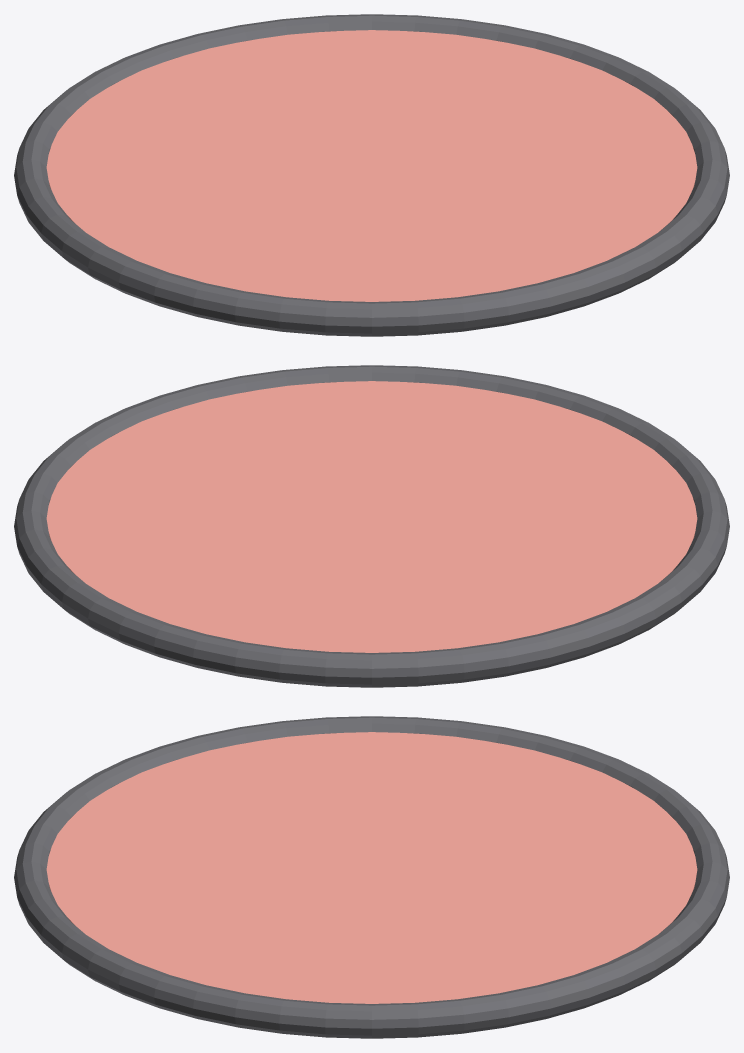
The model's file is Toy_SpawnPad_Coral.fbx.
3 views of the same model, one above another, from view 1: azimuth 30°, elevation 25°; view 2: azimuth 150°, elevation 25°; view 3: azimuth 270°, elevation 25° (orthographic).
Parts seen in each view (by area): view 1: Toy_SpawnPad_Coral; view 2: Toy_SpawnPad_Coral; view 3: Toy_SpawnPad_Coral.
Boxes of the visible parts, x1,y1,x2,y2 form: Toy_SpawnPad_Coral: [14, 14, 729, 336]; Toy_SpawnPad_Coral: [14, 365, 729, 687]; Toy_SpawnPad_Coral: [14, 716, 729, 1038].
Bounding box in the file's own units: 1.64 × 0.08 × 1.64.
